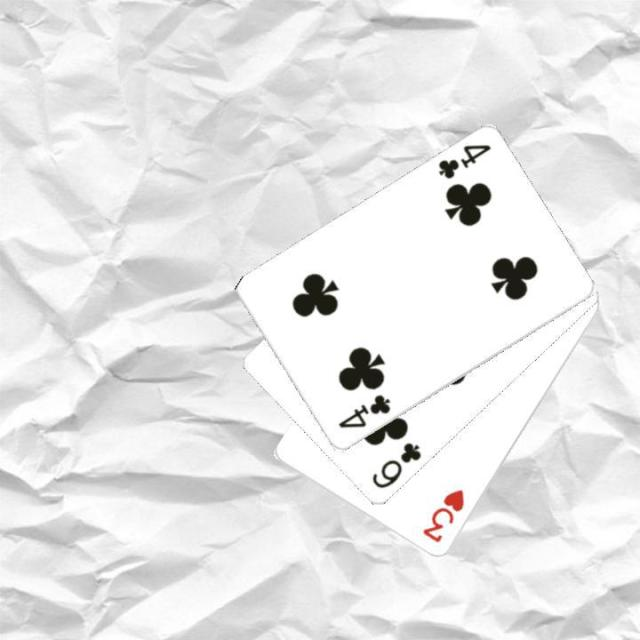3H: (418, 485, 466, 545)
4C: (434, 140, 493, 182), (334, 390, 393, 431)
6C: (368, 439, 423, 492)
